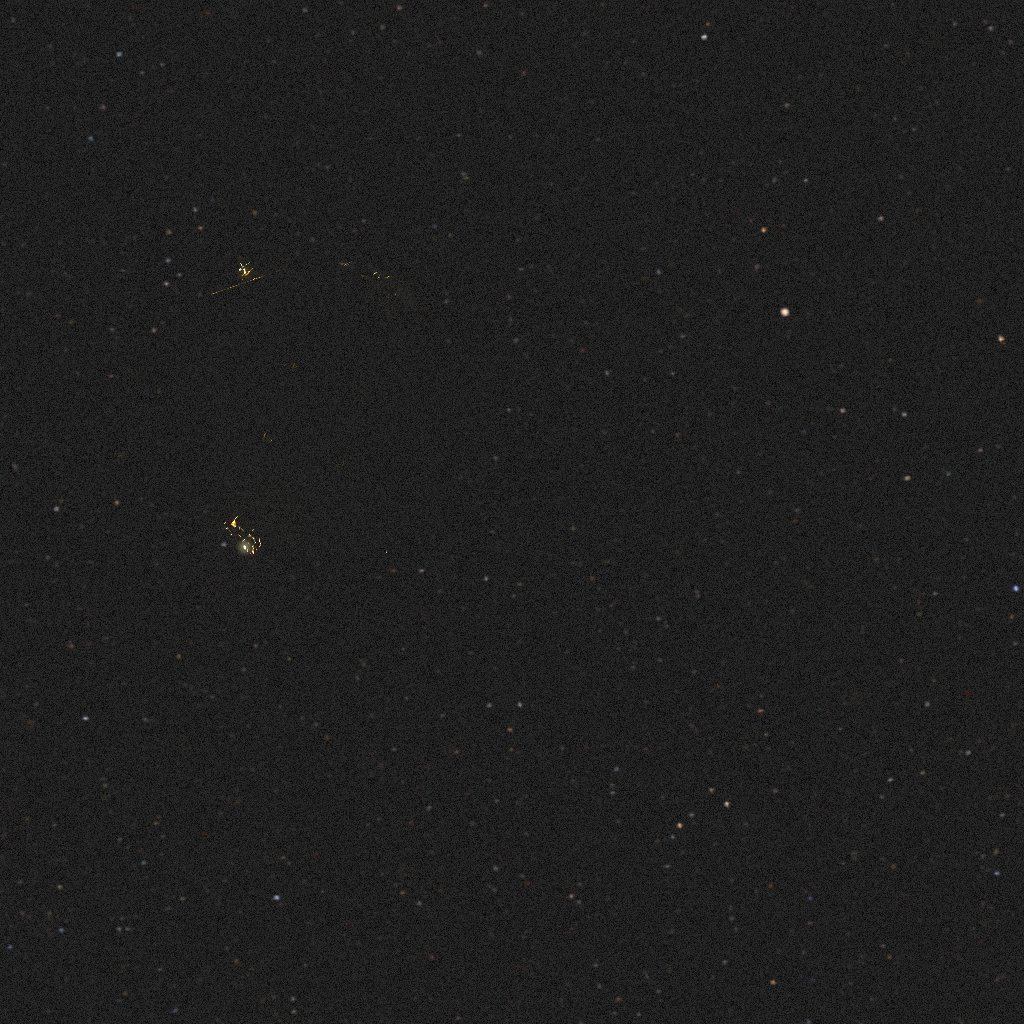lisa_pathfinder: (159, 257, 474, 562)
